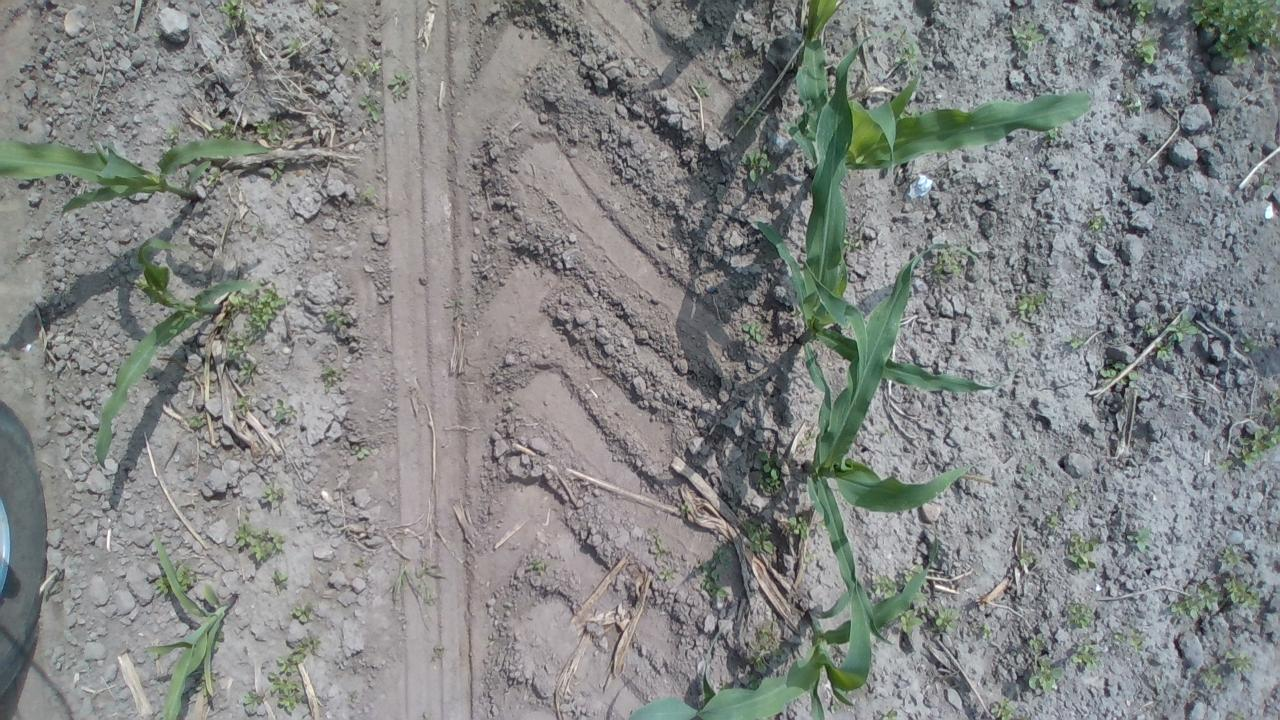Maize: (721, 39, 1005, 432), (779, 250, 987, 660), (782, 1, 1101, 193), (612, 541, 948, 720), (89, 236, 252, 481), (0, 110, 275, 218), (132, 515, 245, 720)
Weeds: (1188, 0, 1280, 69), (388, 552, 448, 612), (231, 283, 291, 341), (1140, 314, 1194, 366), (232, 524, 288, 564), (273, 632, 326, 674), (1173, 576, 1221, 620), (222, 335, 262, 387), (1246, 396, 1280, 456), (264, 674, 310, 717), (745, 622, 784, 672), (1062, 528, 1102, 574), (740, 518, 780, 564), (150, 558, 200, 594), (1024, 660, 1070, 698), (738, 146, 778, 188), (1216, 572, 1262, 608), (692, 562, 731, 604), (645, 532, 677, 582), (1068, 637, 1110, 675), (756, 449, 790, 493), (1223, 436, 1259, 476), (1057, 594, 1097, 628), (1007, 22, 1047, 56), (1104, 0, 1152, 27), (932, 602, 966, 640), (320, 305, 364, 334), (931, 246, 963, 284), (890, 33, 921, 72), (1011, 286, 1051, 316), (356, 90, 390, 123), (316, 359, 344, 399), (732, 96, 768, 127), (873, 570, 910, 600), (285, 600, 323, 628), (267, 395, 301, 426), (782, 510, 815, 541), (256, 478, 290, 508), (1195, 661, 1231, 689), (1100, 362, 1136, 389), (1129, 34, 1158, 67), (894, 607, 926, 635), (986, 694, 1022, 718), (1127, 524, 1157, 552), (226, 390, 256, 418), (218, 3, 256, 25), (1020, 634, 1056, 657), (238, 685, 264, 716), (1225, 646, 1250, 678), (740, 320, 768, 348), (391, 70, 418, 99), (354, 58, 380, 86), (1215, 543, 1243, 568), (262, 567, 290, 592), (974, 617, 999, 644), (1081, 204, 1105, 232), (186, 412, 214, 436), (257, 119, 286, 141), (1060, 486, 1084, 510), (348, 438, 371, 463), (1238, 330, 1260, 356), (1019, 458, 1037, 488), (524, 556, 550, 576), (284, 38, 312, 56), (1130, 627, 1150, 652), (1042, 126, 1066, 146), (214, 119, 236, 140), (1016, 546, 1034, 571), (359, 180, 376, 206), (1042, 510, 1062, 532), (1068, 336, 1096, 351), (876, 705, 904, 720), (270, 163, 292, 182), (678, 500, 697, 520), (1111, 628, 1127, 650), (912, 586, 926, 611)
